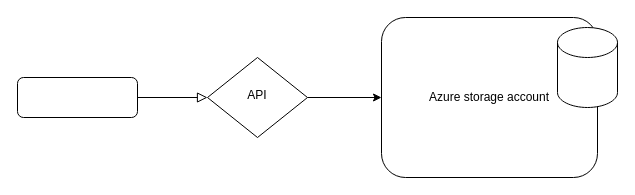
This 635x195 diagram has some shape labels left out. The shapes that lost their labels are listed below. From the top down, each one's centre as x and y in pixels, then its label:
At pixel 587 67: "Container".
At pixel 77 97: "Blobapp".
